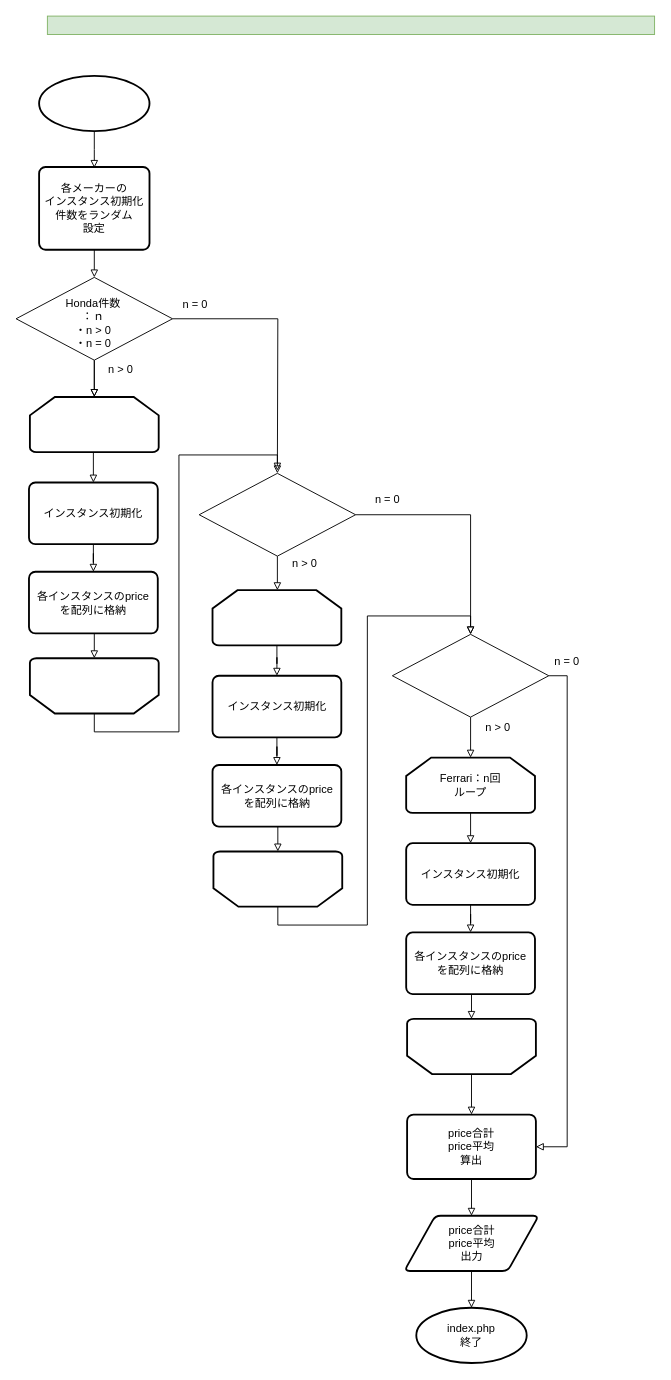
Some shapes in this 671 by 1380 pixel diagram are drawn without their labels. The shapes that lost their labels are listed below. From the top down, each one's centre as x and y in pixels, then its label:
At (x=350, y=24): "各機能のフローチャート".
At (x=94, y=103): "index.php スタート".
At (x=94, y=424): "Honda：n回 ループ".
At (x=277, y=514): "Nissan件数 ：ｎ ・n > 0 ・n = 0".
At (x=276, y=617): "Nissan：n回 ループ".
At (x=470, y=675): "Ferrari件数 ：ｎ ・n > 0 ・n = 0".
